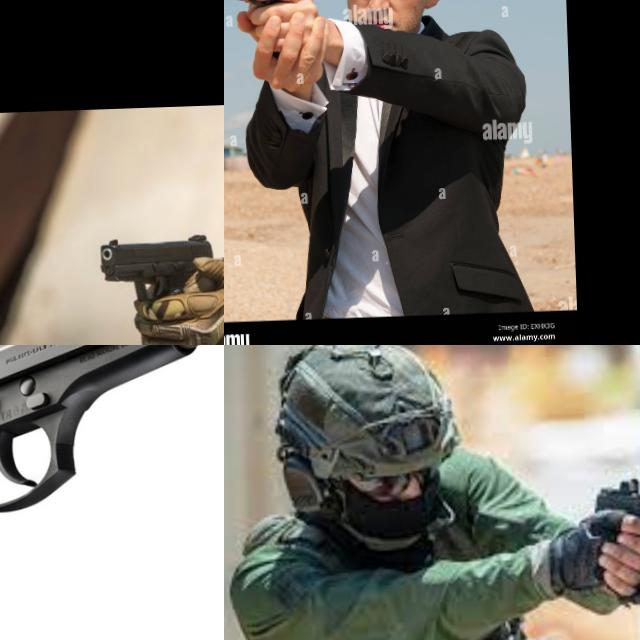handgun: (0, 345, 224, 640), (97, 232, 216, 304), (591, 472, 640, 547), (224, 0, 300, 43)
